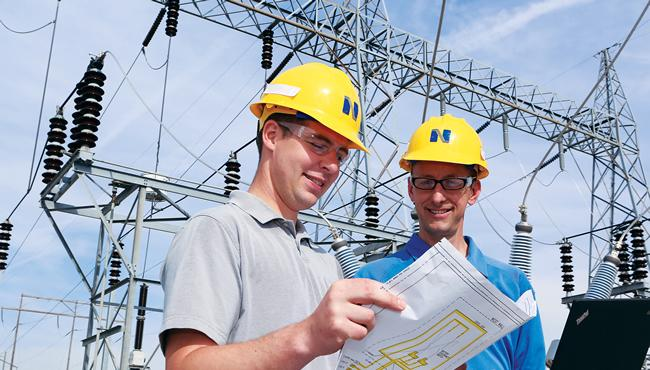helmet: (249, 63, 372, 163), (400, 115, 491, 182)
